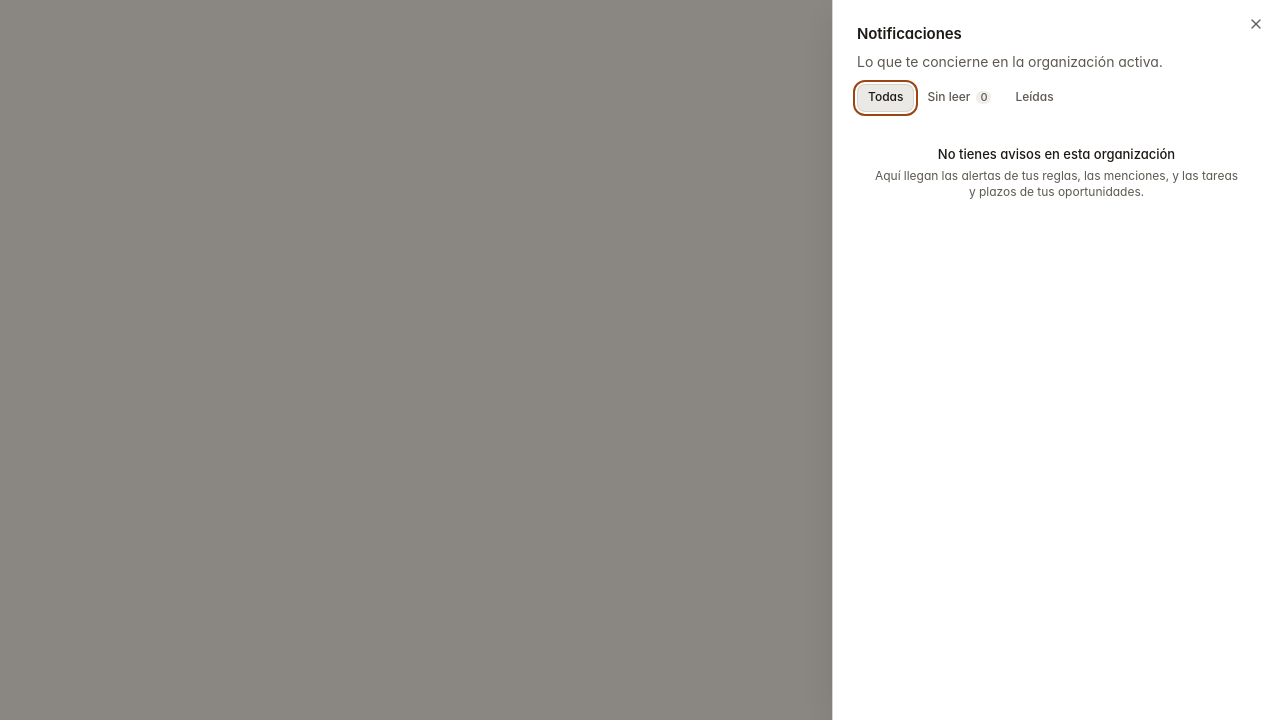
it: VerTodasSheet › el vacío dice qué falta según el filtro
Expected: the text "No tienes avisos en esta organización" is shown, [938,144,1175,163]
Click the button "Sin leer 0": (960, 98) [916,84,1002,112]
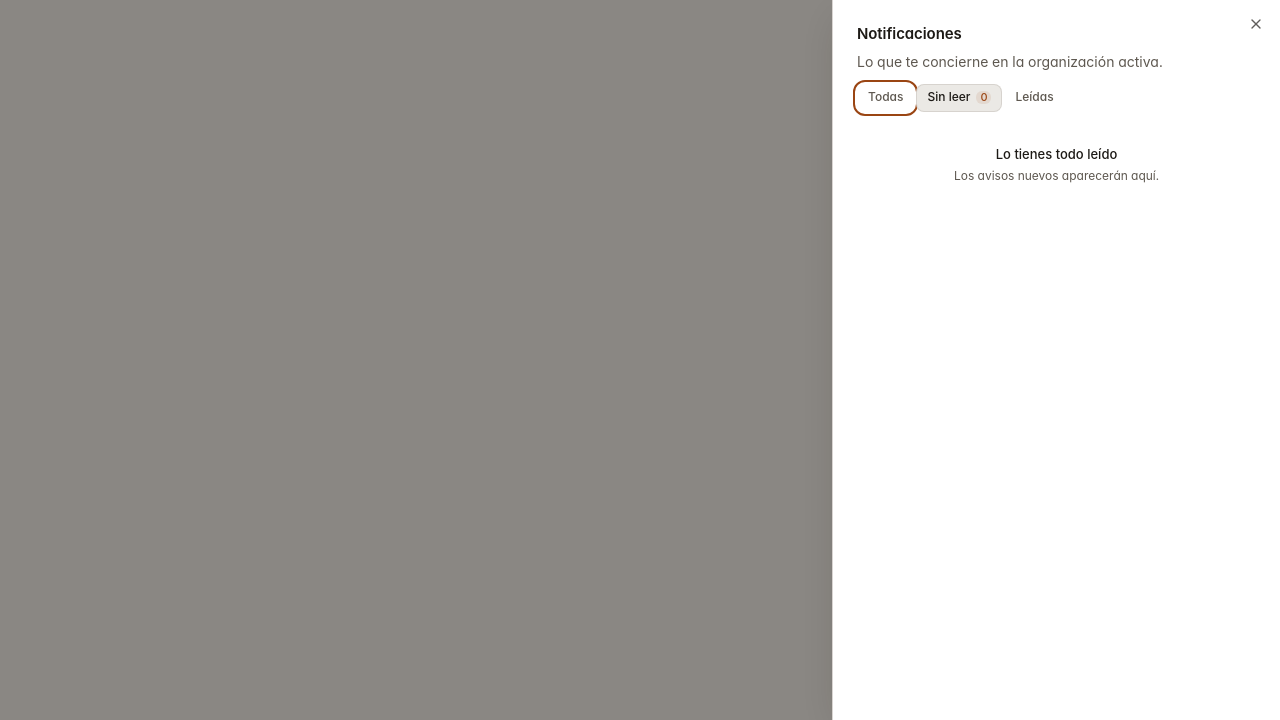
Expected: the text "Lo tienes todo leído" is shown, [996,144,1117,163]
